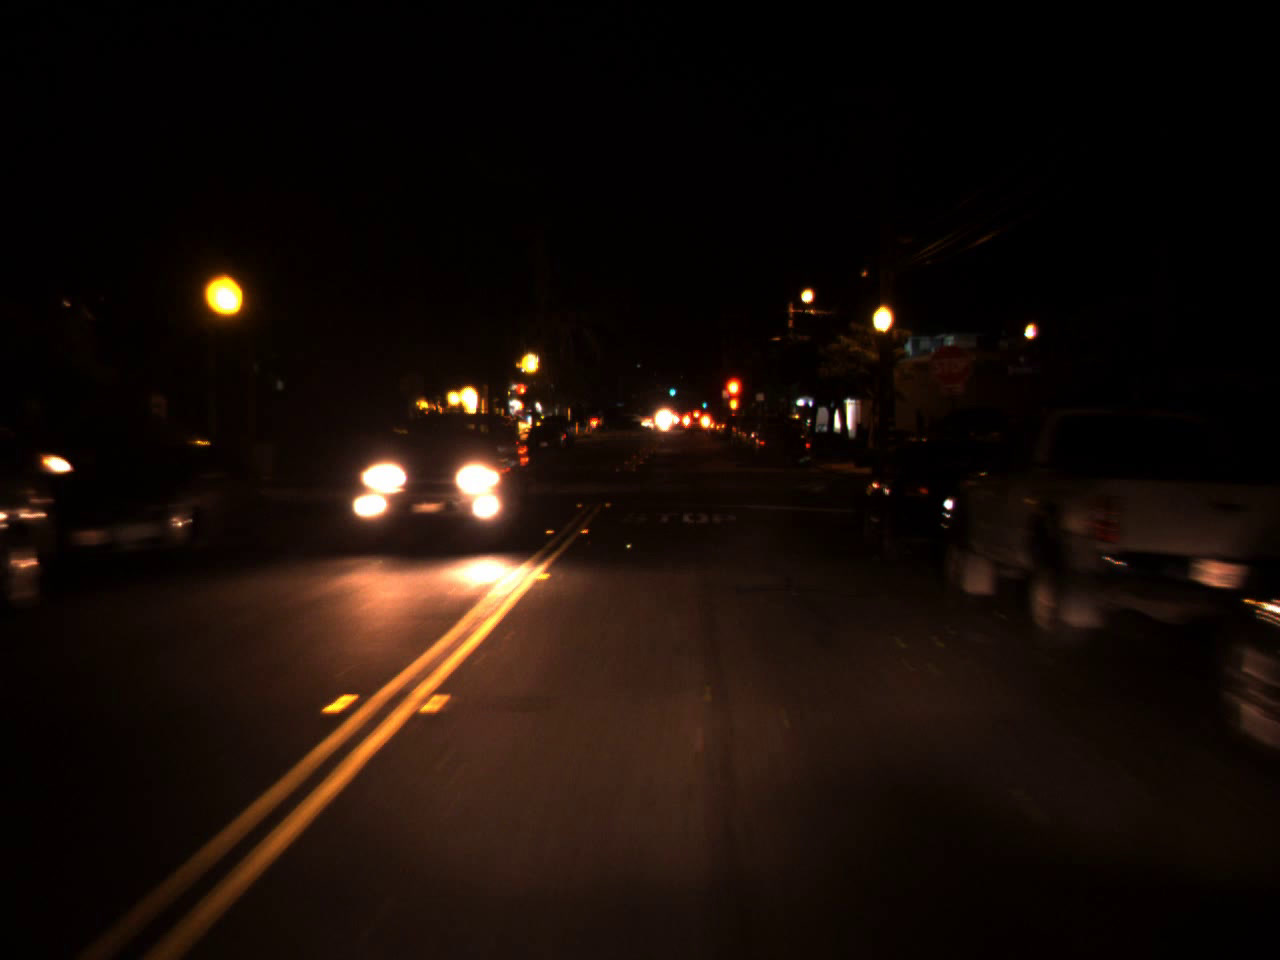go: (667, 382, 676, 397)
stop: (725, 378, 743, 410), (514, 382, 526, 403)
